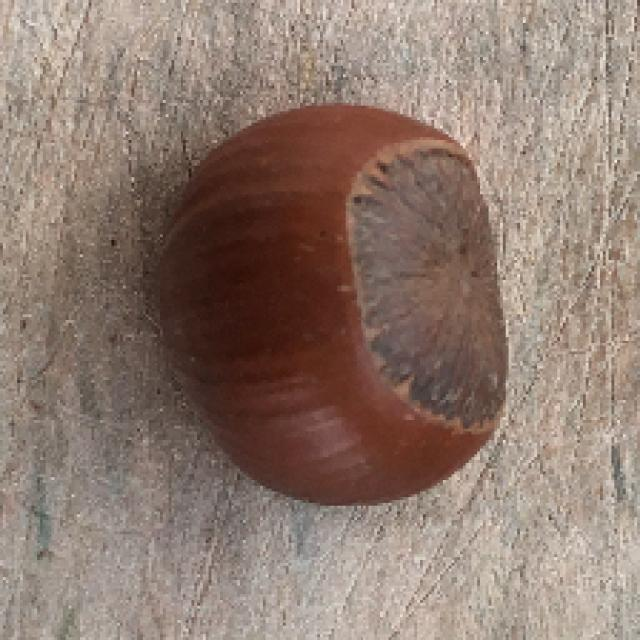qualityHazelnut: (136, 95, 519, 520)
